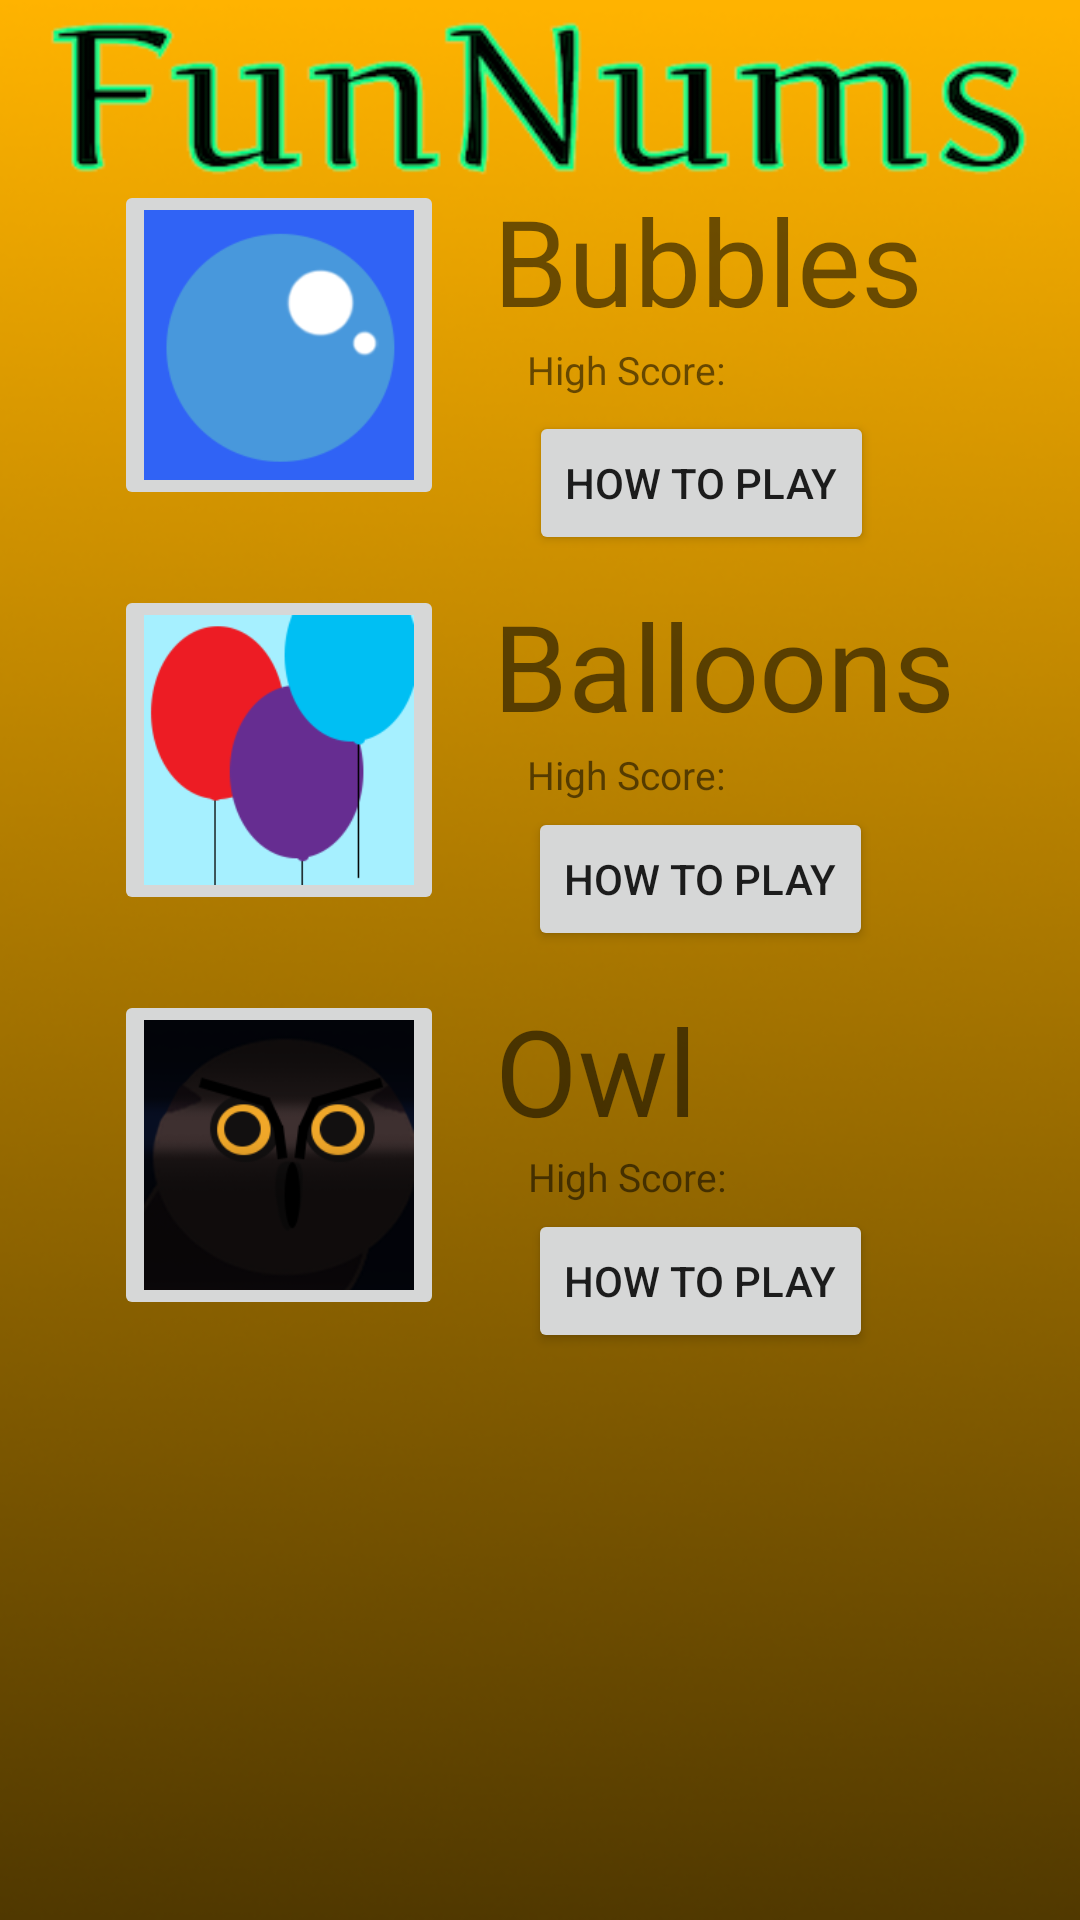

Where icons sit on this 1080w x 1920h app screen, as (x1, y1, x2, y2):
A balloon game: (114, 585, 444, 897)
A bubble game: (114, 180, 444, 492)
owl game: (114, 1008, 444, 1320)
